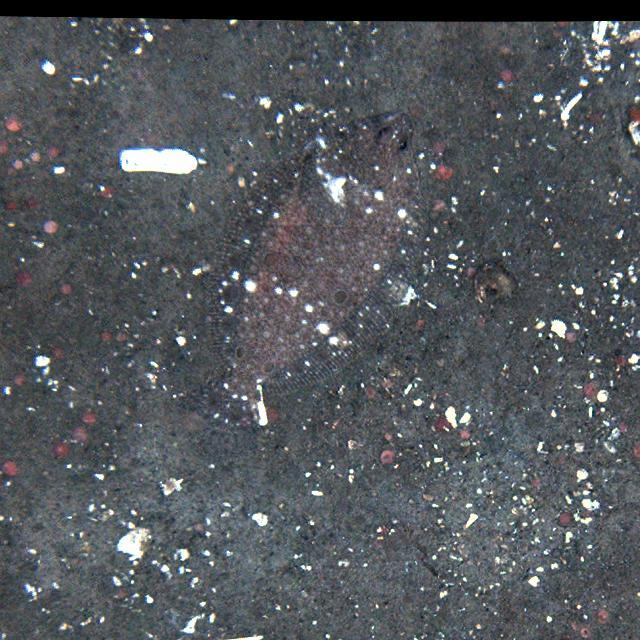flatfish: (183, 102, 431, 439)
